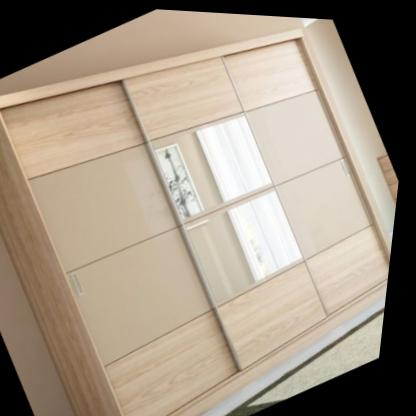Closet: (0, 23, 396, 416)
